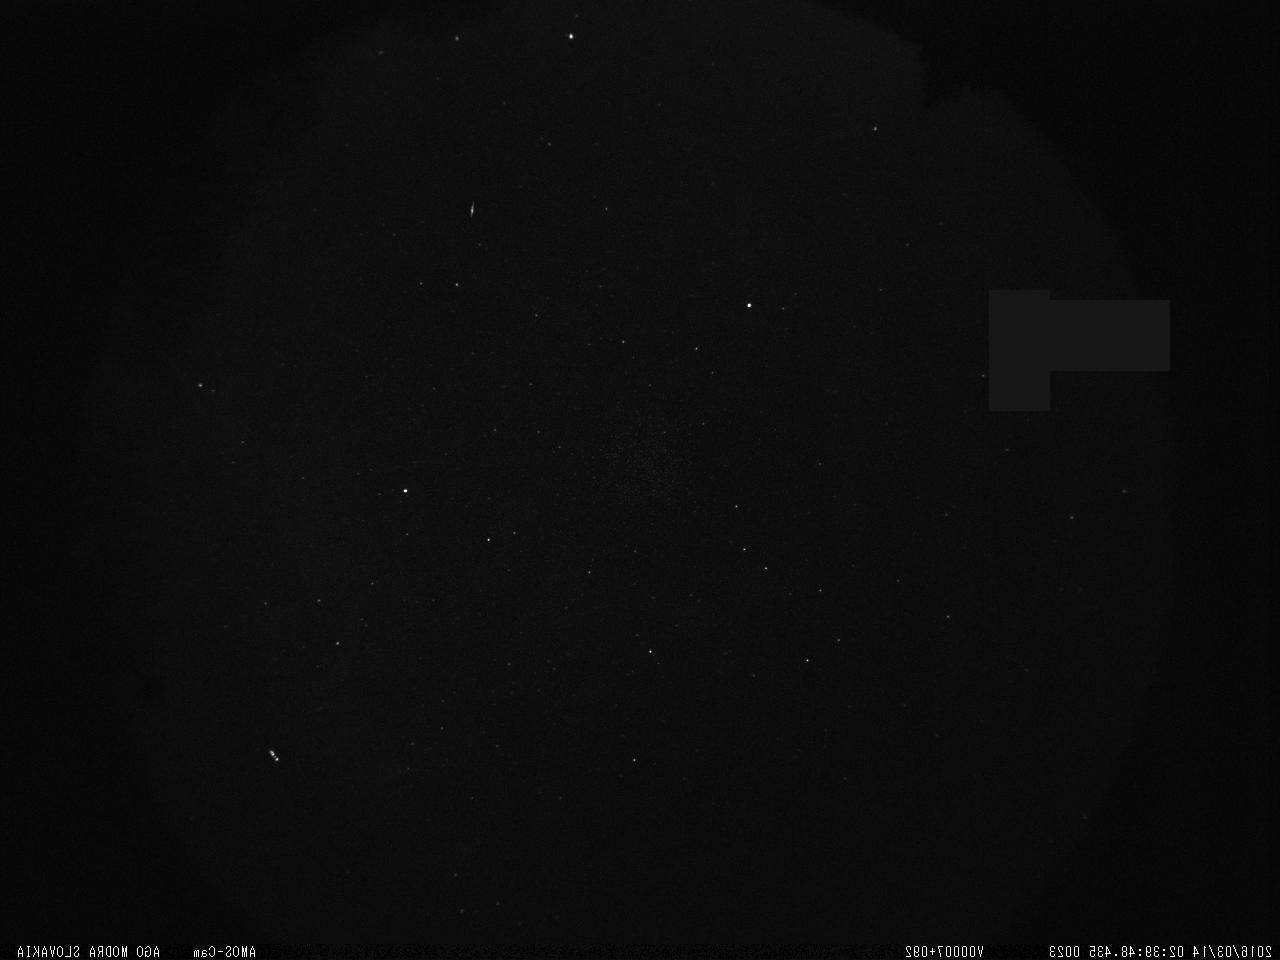meteor: (463, 196, 482, 221)
